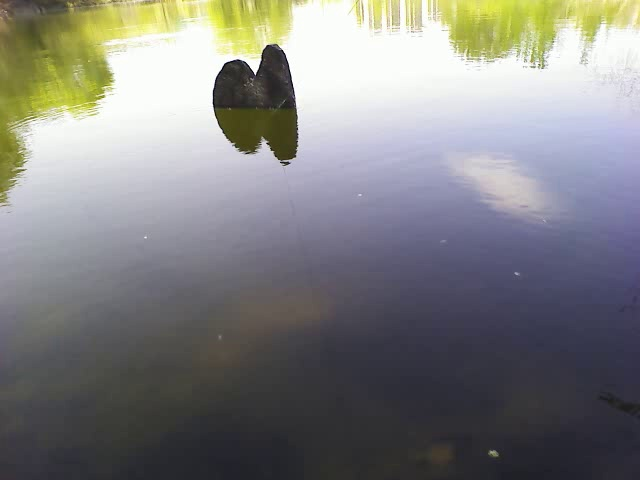rock: (213, 43, 299, 114)
